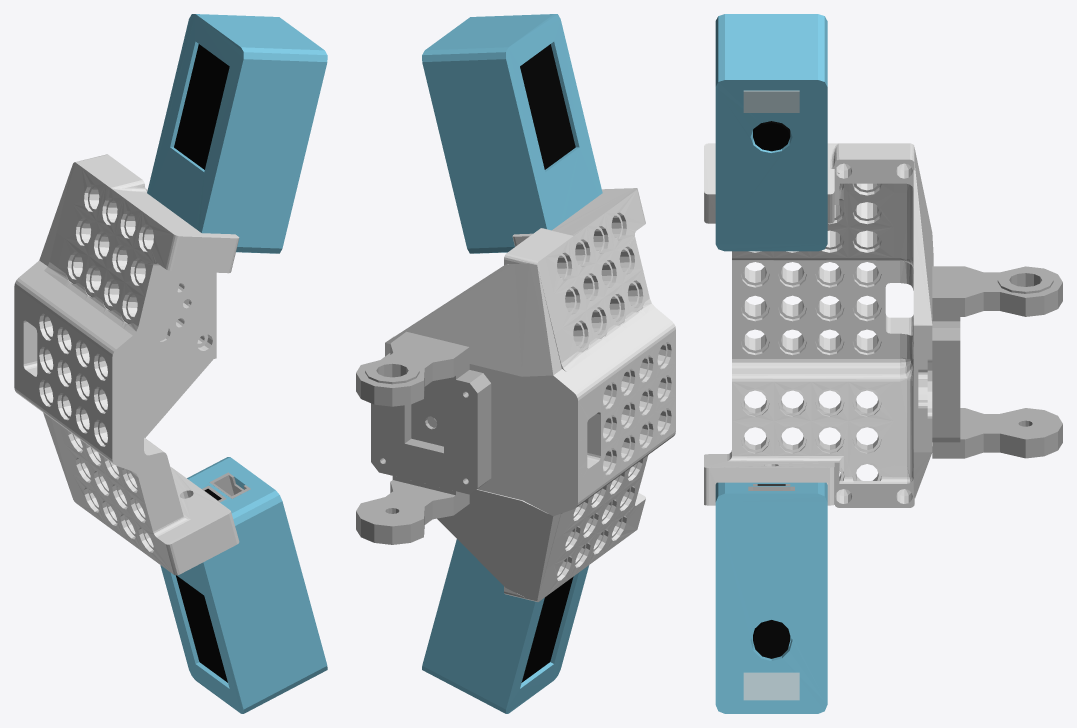
Rendered from head-neck-p_mesh.glb.
3 renders of one model, left to right at view 1: azimuth 30°, elevation 25°; view 2: azimuth 150°, elevation 25°; view 3: azimuth 270°, elevation 25°, orthographic. The views are drawn at different scales.
Visible parts, largest first — view 1: base2_M1KShape3, base2_M1KShape4, base2_M1KShape11, base2_M1KShape5, base2_M1KShape12, base2_M1KShape15; view 2: base2_M1KShape3, base2_M1KShape4, base2_M1KShape11, base2_M1KShape0, base2_M1KShape2, base2_M1KShape1, base2_M1KShape5, base2_M1KShape12; view 3: base2_M1KShape3, base2_M1KShape4, base2_M1KShape11, base2_M1KShape2, base2_M1KShape1, base2_M1KShape0, base2_M1KShape14, base2_M1KShape7, base2_M1KShape13, base2_M1KShape6.
Boxes of the visible parts, left/top/right/bottom form: base2_M1KShape3: left=14, top=154, right=239, bottom=575; base2_M1KShape4: left=147, top=14, right=327, bottom=253; base2_M1KShape11: left=160, top=457, right=327, bottom=713; base2_M1KShape5: left=174, top=44, right=229, bottom=169; base2_M1KShape12: left=176, top=575, right=227, bottom=682; base2_M1KShape15: left=209, top=472, right=250, bottom=498; base2_M1KShape3: left=385, top=188, right=675, bottom=601; base2_M1KShape4: left=422, top=14, right=602, bottom=253; base2_M1KShape11: left=422, top=539, right=589, bottom=713; base2_M1KShape0: left=371, top=353, right=491, bottom=494; base2_M1KShape2: left=356, top=331, right=469, bottom=406; base2_M1KShape1: left=356, top=476, right=469, bottom=544; base2_M1KShape5: left=520, top=44, right=575, bottom=169; base2_M1KShape12: left=521, top=576, right=573, bottom=682; base2_M1KShape3: left=704, top=143, right=933, bottom=507; base2_M1KShape4: left=715, top=14, right=827, bottom=251; base2_M1KShape11: left=715, top=482, right=827, bottom=713; base2_M1KShape2: left=932, top=266, right=1062, bottom=321; base2_M1KShape1: left=932, top=408, right=1062, bottom=458; base2_M1KShape0: left=932, top=321, right=960, bottom=442; base2_M1KShape14: left=743, top=672, right=799, bottom=700; base2_M1KShape7: left=743, top=90, right=799, bottom=112; base2_M1KShape13: left=753, top=620, right=790, bottom=658; base2_M1KShape6: left=753, top=121, right=790, bottom=151.
Bounding box in the file's own units: 0.053 × 0.1614 × 0.077.
